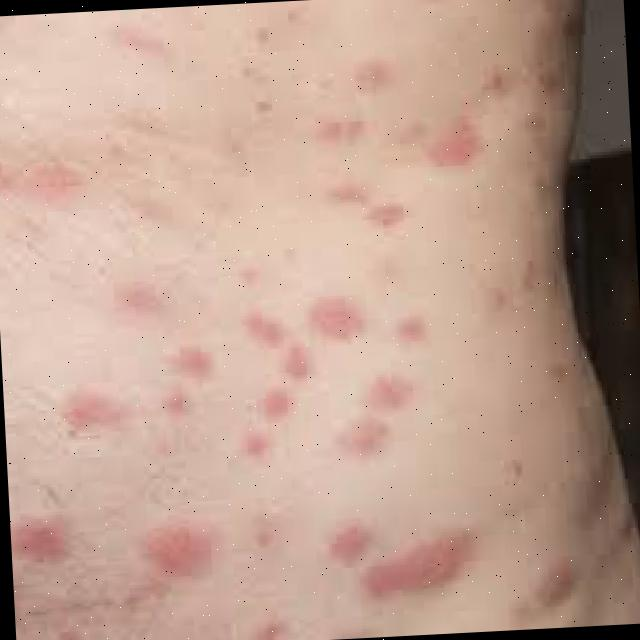kan emici bocekler: (357, 520, 478, 607), (138, 520, 221, 591), (158, 340, 222, 424), (14, 508, 78, 574), (301, 291, 365, 354), (422, 115, 488, 175), (54, 388, 121, 444), (335, 415, 396, 465), (362, 370, 418, 416), (233, 432, 282, 477), (316, 117, 374, 154), (370, 197, 417, 242), (352, 58, 395, 106), (330, 524, 375, 563), (330, 175, 373, 214), (391, 315, 436, 352), (259, 387, 298, 427)
